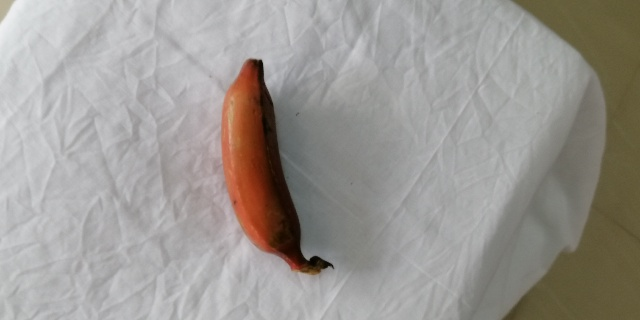banana_red: (220, 56, 334, 276)
